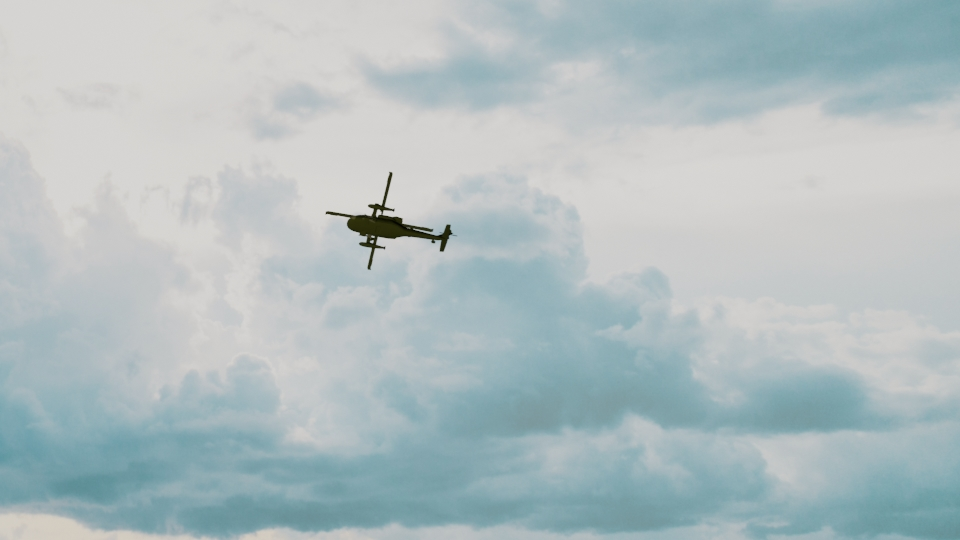heli: (346, 171, 454, 270)
